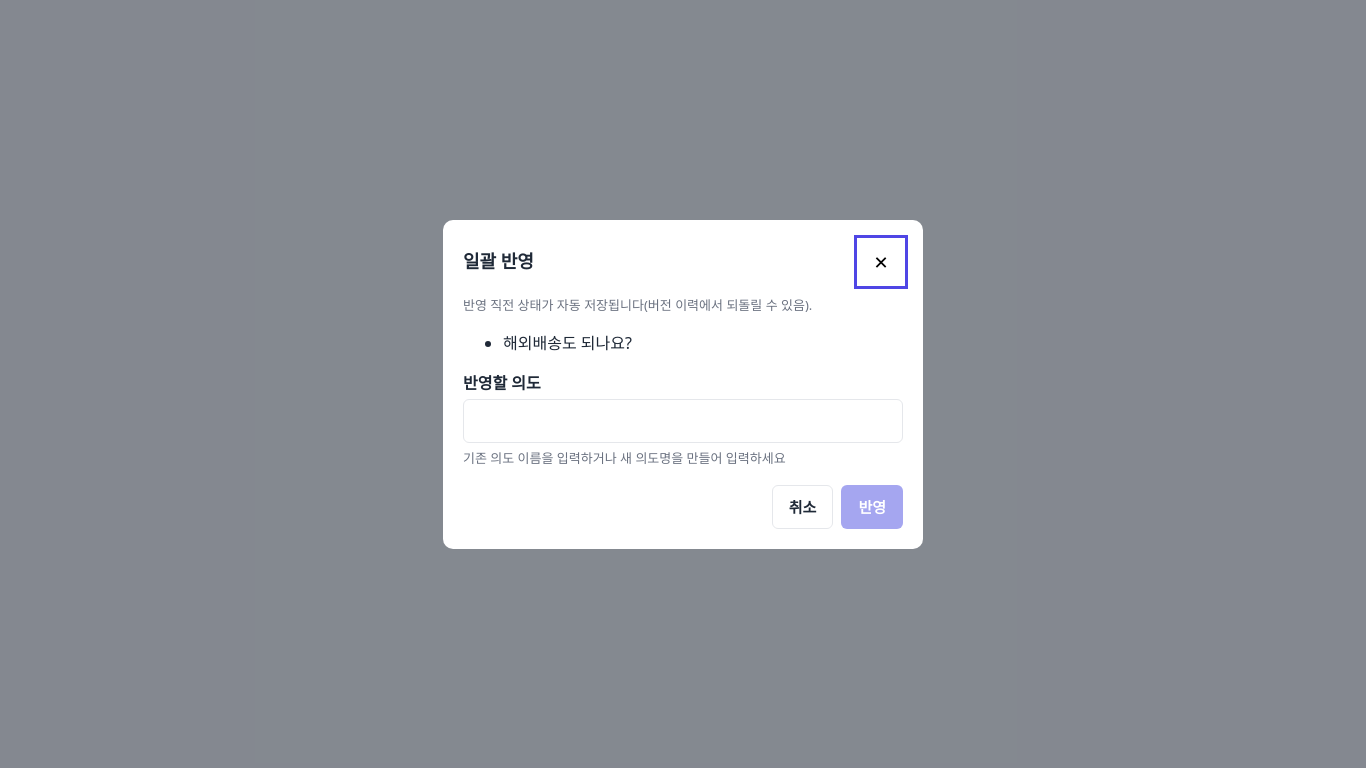
Test: BulkResolveModal — 디바운스 서버 검색 › 경쟁 조건 방지: 느린 이전 검색 응답이 더 최신 검색 결과를 덮어쓰지 않는다
Type "검색어A" into the field labelled "반영할 의도" at (683, 421), box [463, 399, 903, 443]
Wait 310 ms
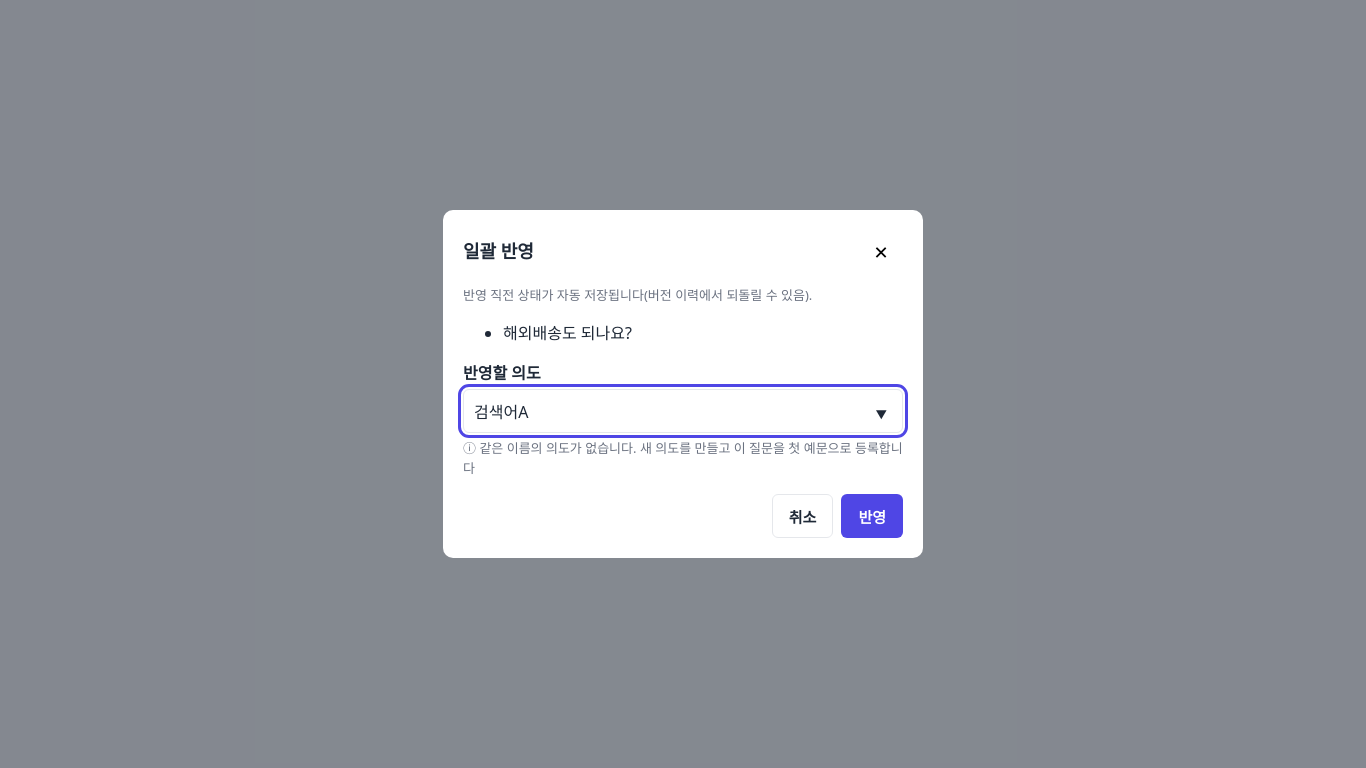
Clear the field labelled "반영할 의도" at (683, 411), box [463, 389, 903, 433]
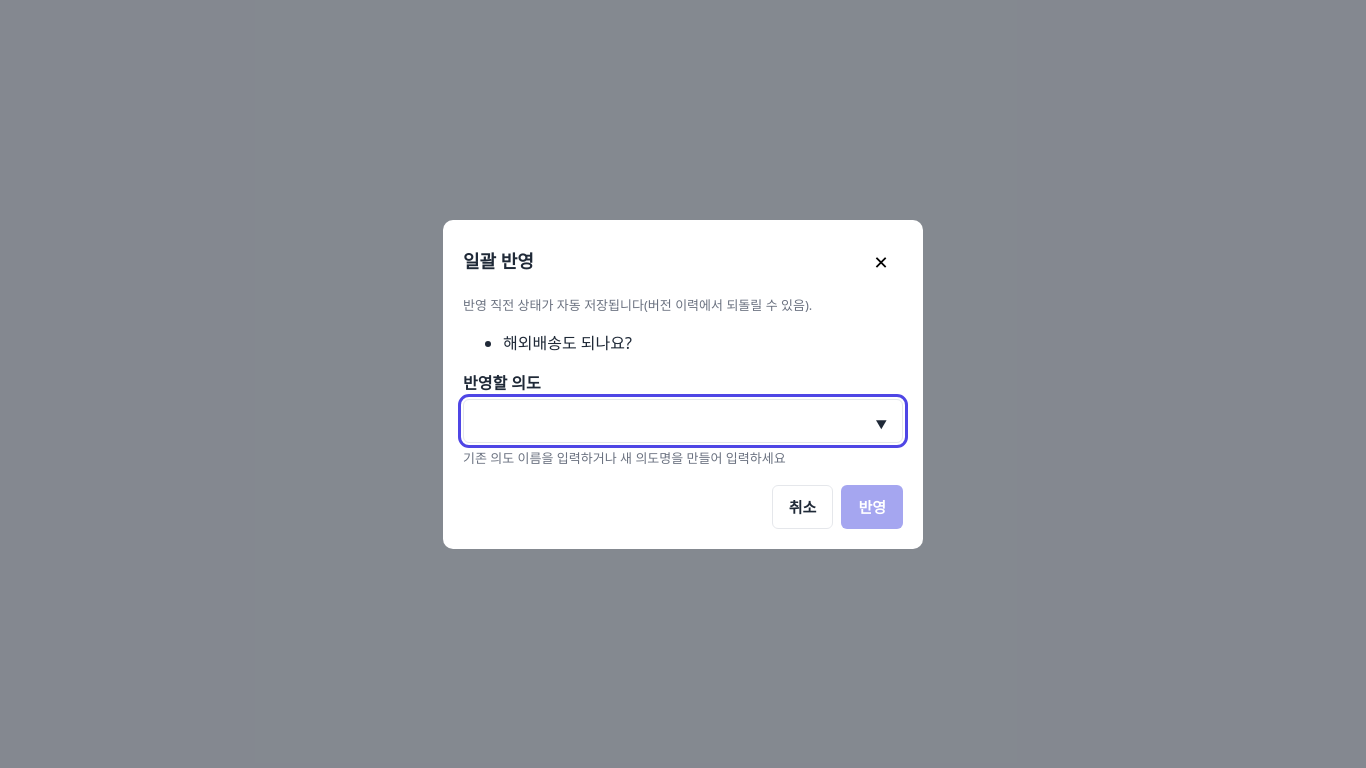
Type "ㅁ검색어B의도" into the field labelled "반영할 의도" at (683, 421), box [463, 399, 903, 443]
Wait 310 ms
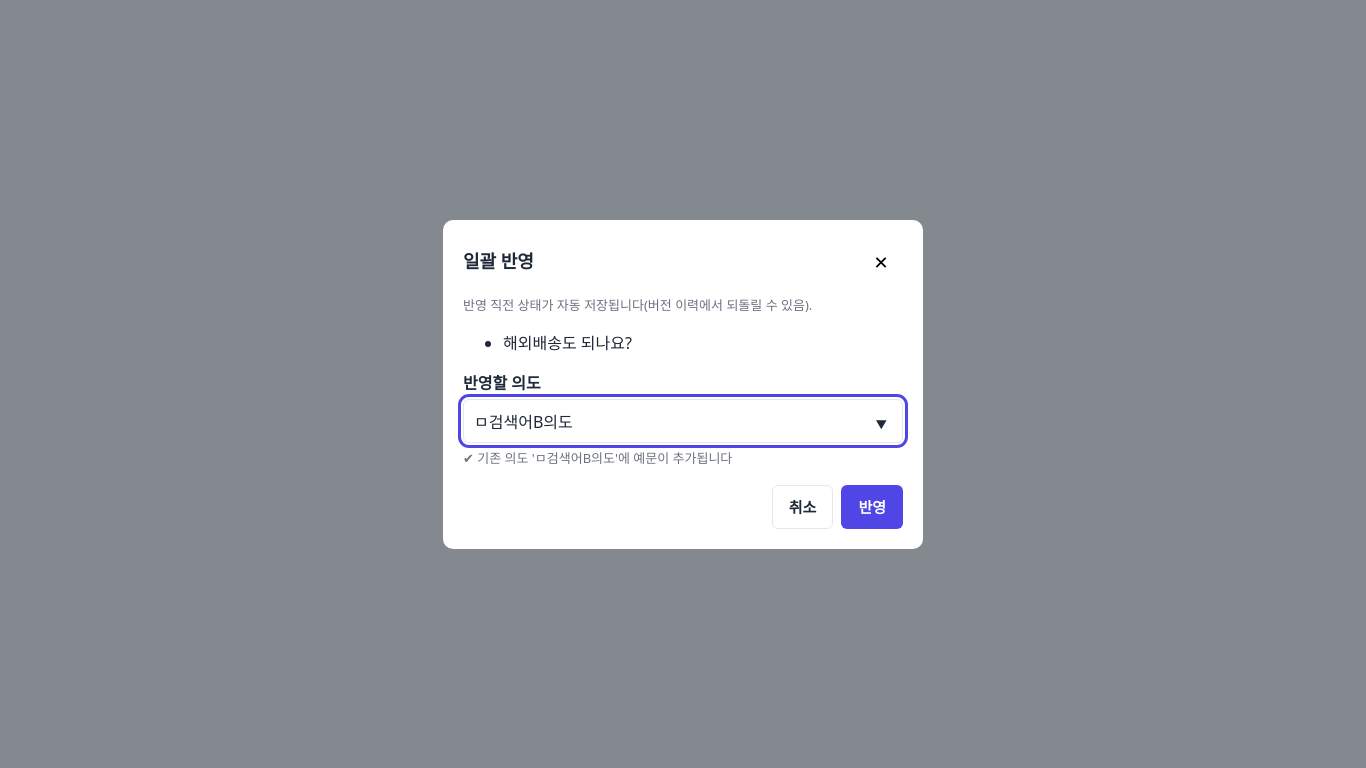
Now the text "✔ 기존 의도 'ㅁ검색어B의도'에 예문이 추가됩니다" is shown, box [463, 449, 732, 467]
